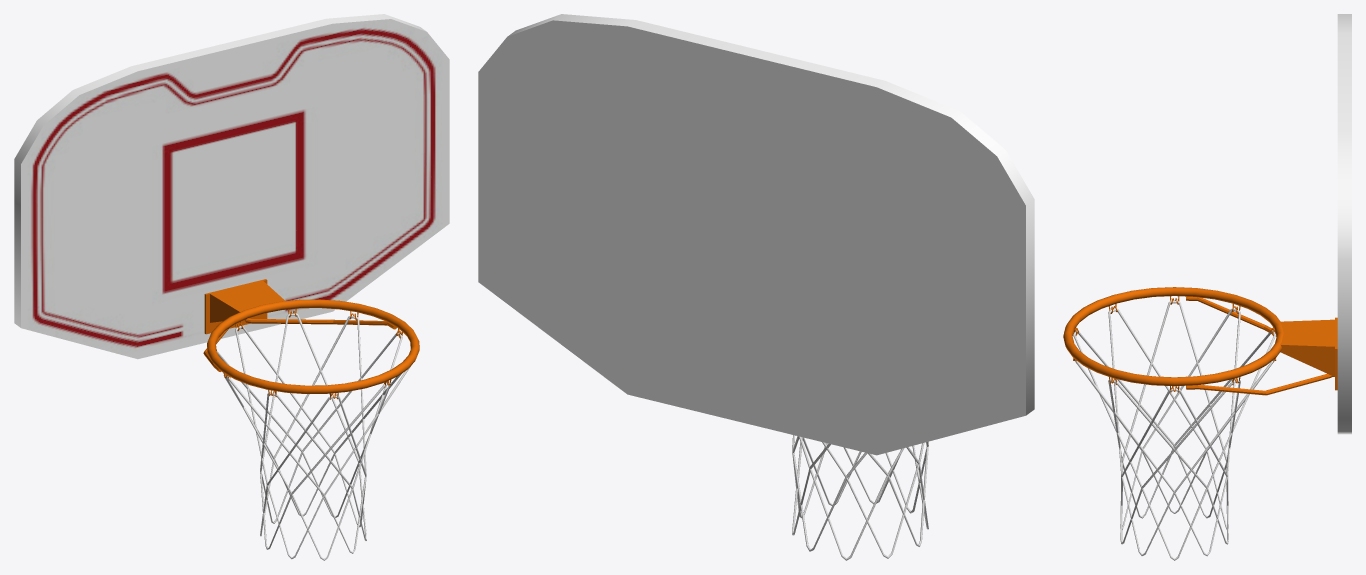
File: net.glb
3 renders of one model, left to right at view 1: azimuth 30°, elevation 25°; view 2: azimuth 150°, elevation 25°; view 3: azimuth 270°, elevation 25°, orthographic. The views are drawn at different scales.
Visible parts, largest first — view 1: Object_2, Object_3, Object_5, Object_4; view 2: Object_4, Object_3; view 3: Object_5, Object_3, Object_4.
Boxes of the visible parts, bbox=[...] form: Object_2: bbox=[21, 19, 449, 359]; Object_3: bbox=[216, 313, 411, 560]; Object_5: bbox=[203, 279, 419, 399]; Object_4: bbox=[14, 14, 426, 327]; Object_4: bbox=[478, 14, 1034, 455]; Object_3: bbox=[792, 435, 928, 560]; Object_5: bbox=[1063, 287, 1337, 395]; Object_3: bbox=[1073, 301, 1275, 560]; Object_4: bbox=[1337, 14, 1351, 434].
Size of the model in its own units: 109 by 106 by 60.86.
Materials: 4 (2 with a texture image).
